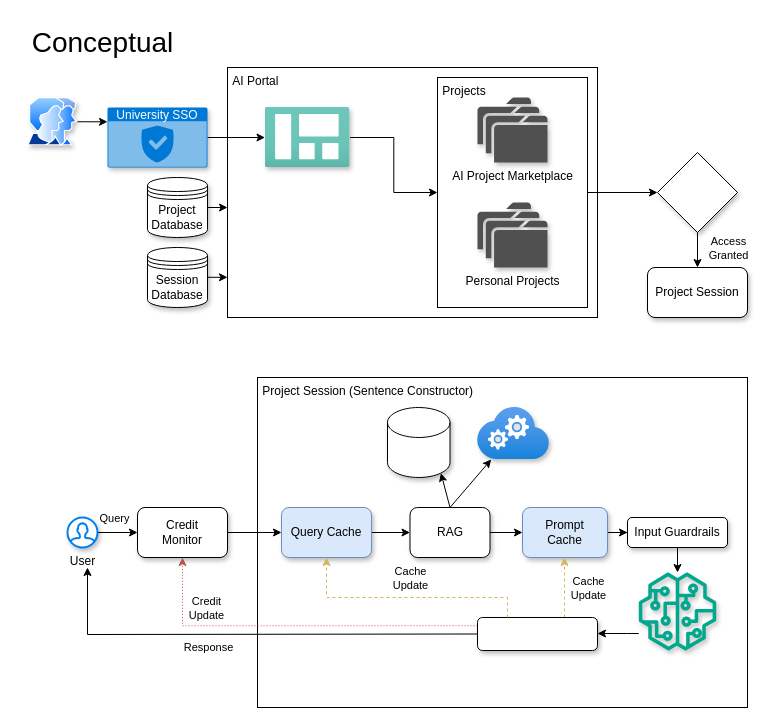
Some shapes in this 771 by 725 pixel diagram are drawn without their labels. Each missing label, with the centre of its shape:
AI Model: point (678, 612)
Credit & Permission Check: point (698, 194)
Dashboard: point (308, 138)
Data API: point (514, 434)
Output Guardrails: point (538, 635)
Users: point (53, 122)
Vector Database: point (419, 443)
